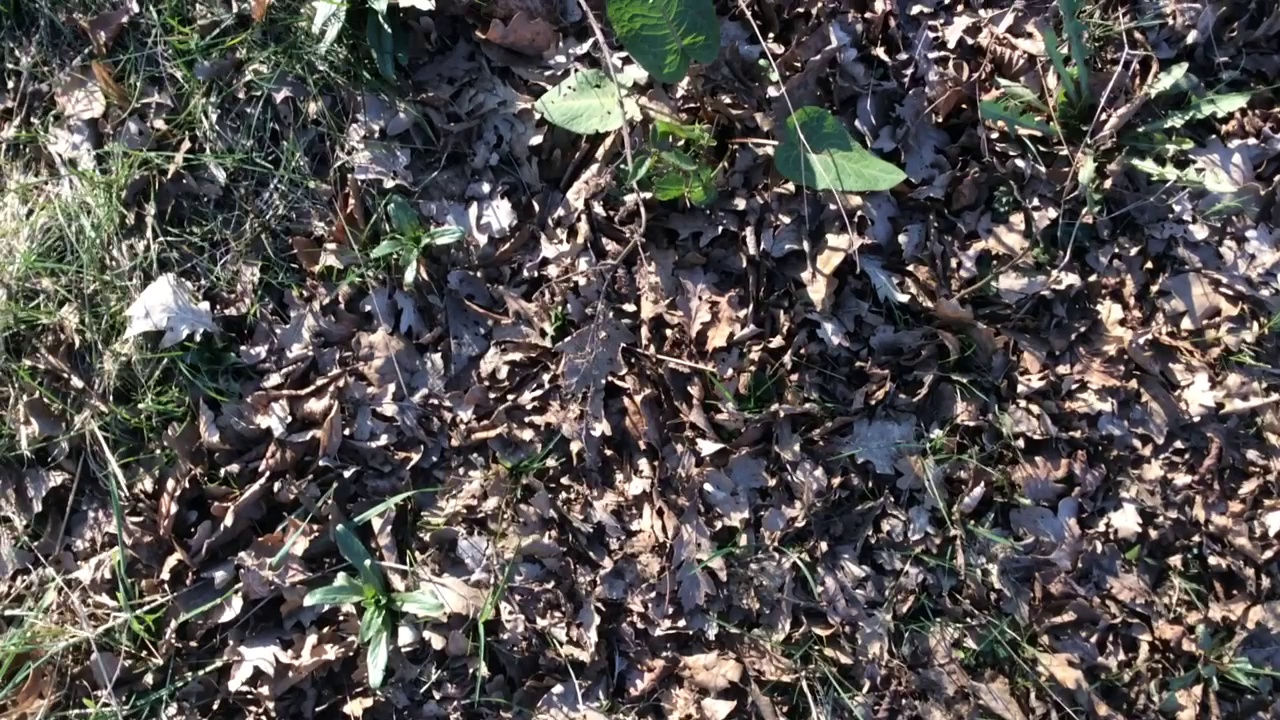rumex: (534, 1, 907, 204)
